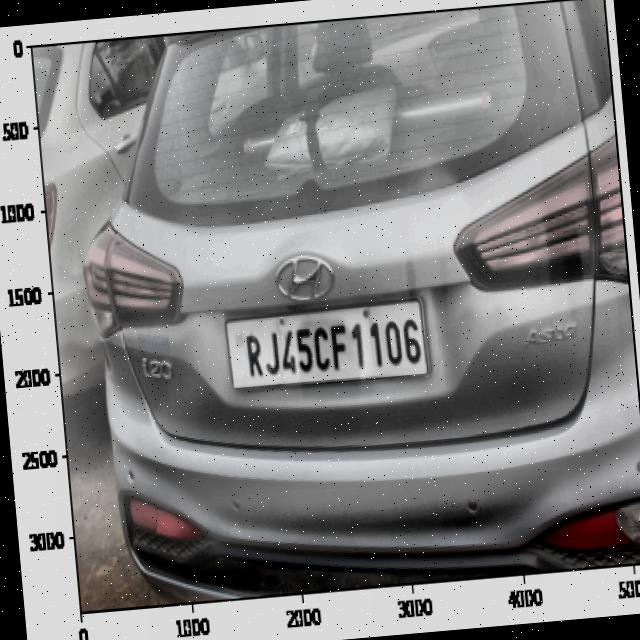license_plate: (230, 303, 430, 392)
